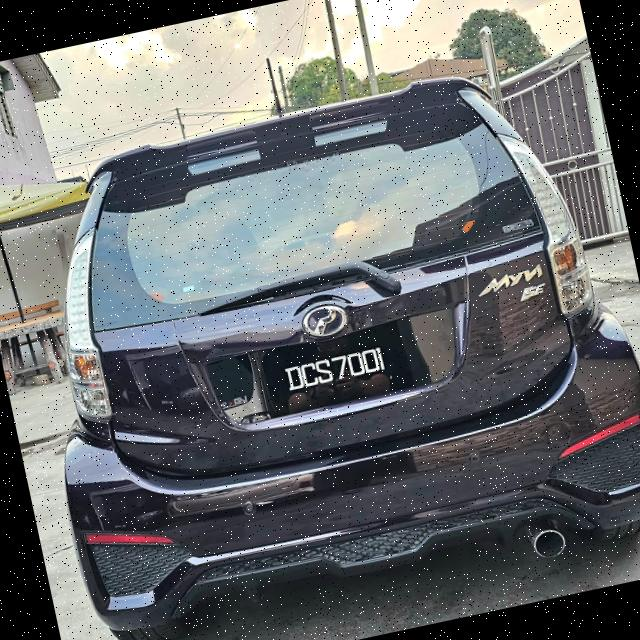License_Plate: (261, 328, 413, 407)
car: (1, 40, 640, 640)
